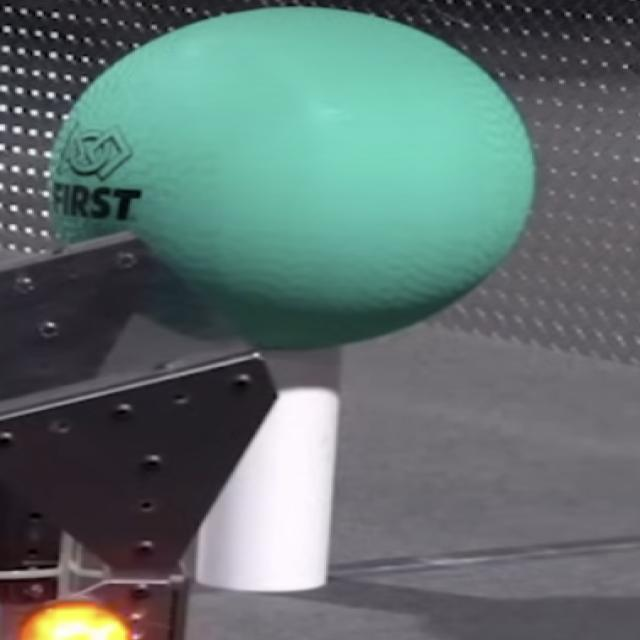Algae: (48, 8, 535, 352)
Coral: (189, 351, 346, 594)
